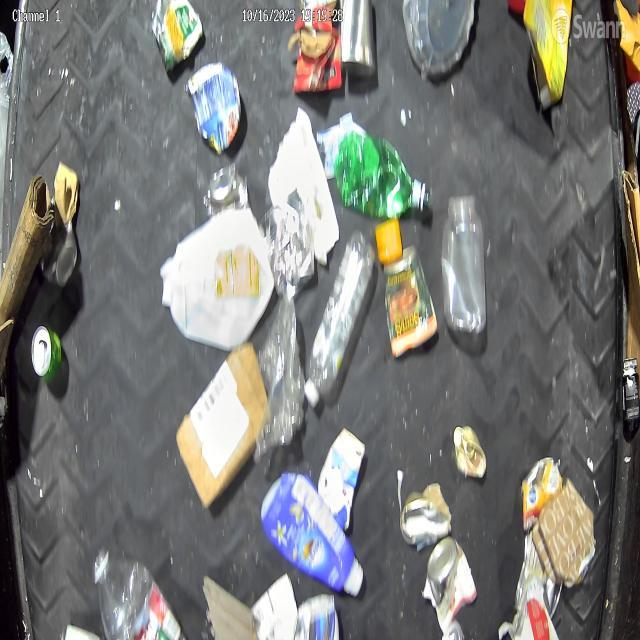can: (383, 244, 438, 364), (186, 62, 244, 156), (426, 533, 478, 629), (152, 0, 204, 75), (400, 483, 453, 554), (39, 194, 78, 289), (203, 163, 250, 223), (31, 322, 63, 382)
milk_jug: (159, 204, 276, 357)
non_white_jug: (258, 468, 366, 598)
plastic_bottle: (304, 223, 376, 414), (92, 545, 186, 640)
